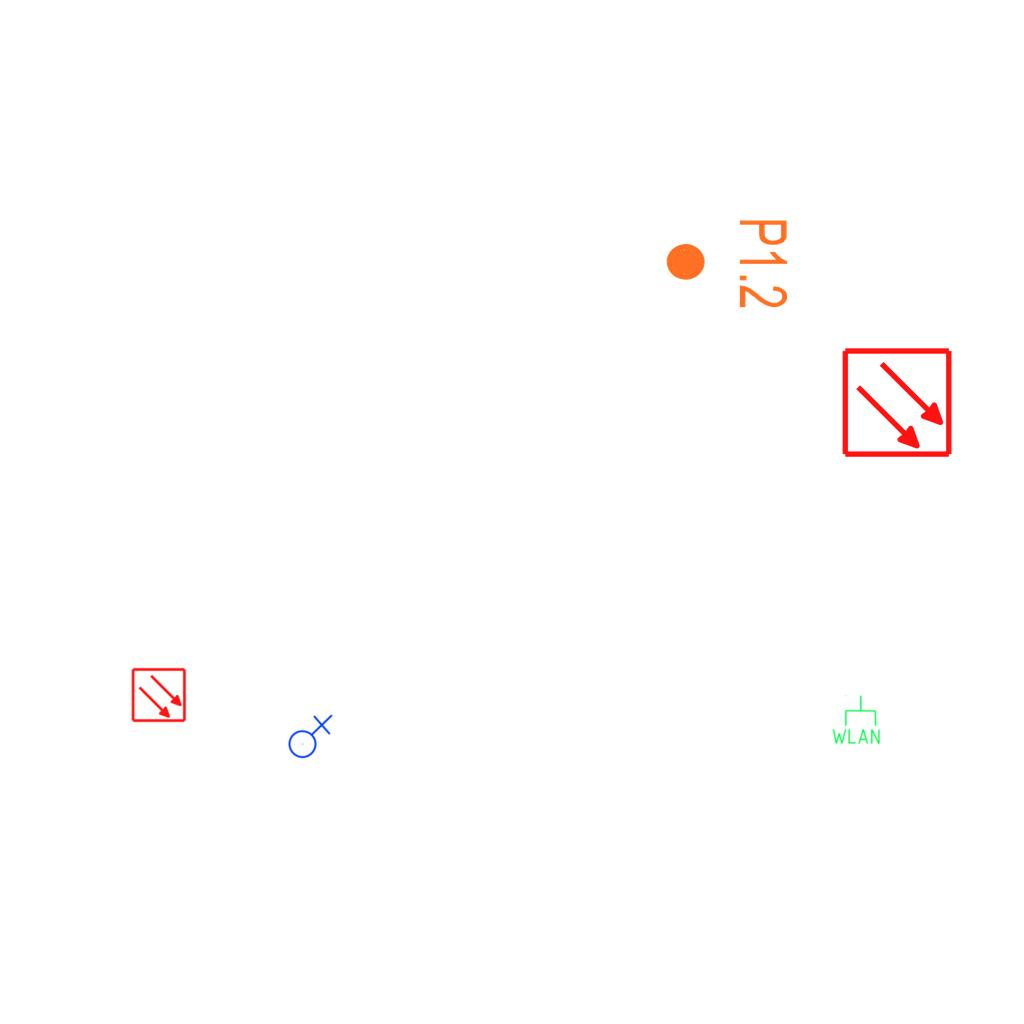Downlight_LED_Einbauleuchten_Flur: (663, 217, 791, 310)
Elektroanschluss_allgemein_230V_Geraeteanschlussdose_230V: (284, 712, 333, 759)
RMO_Rauchmelder_optischer: (841, 346, 954, 459), (131, 667, 187, 723)
WLAN: (830, 694, 882, 746)
